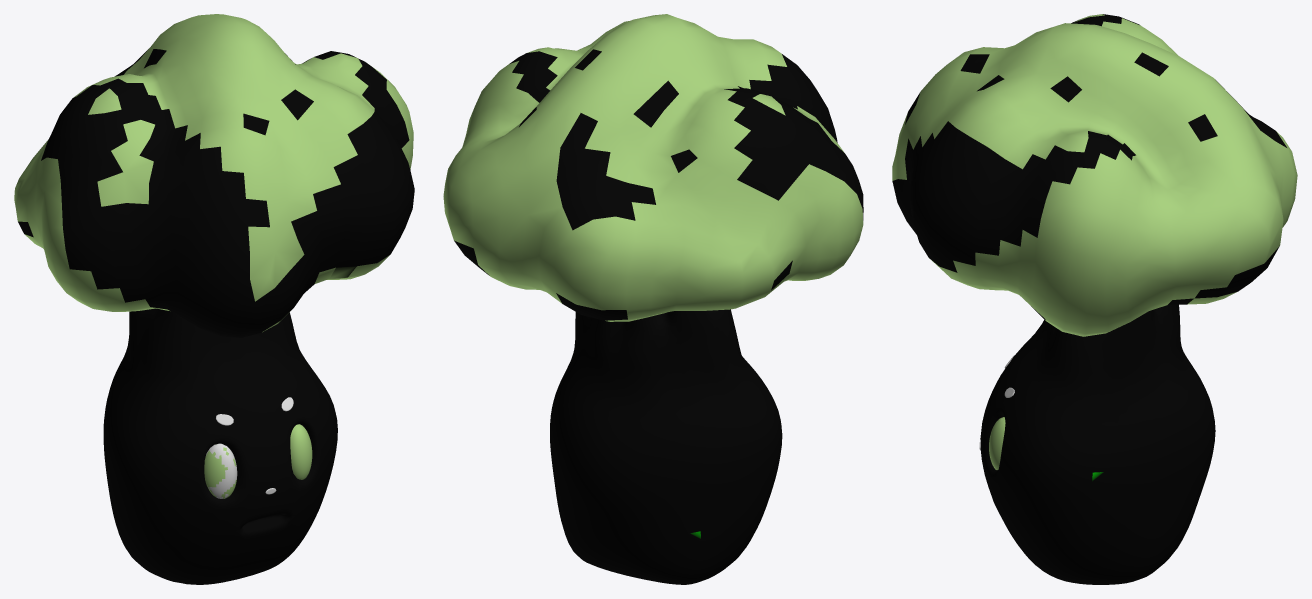
The model's file is Broc_uvmapped.FBX.
The picture shows the model from 3 angles, left to right: view 1: azimuth 30°, elevation 25°; view 2: azimuth 150°, elevation 25°; view 3: azimuth 270°, elevation 25°; orthographic projection.
Visible parts, largest first — view 1: body; view 2: body; view 3: body.
Part boxes in pixels (box(x1,y1,x2,y2)): body: box(14, 14, 414, 584); body: box(443, 14, 863, 584); body: box(892, 14, 1297, 584).
Bounding box in the file's own units: 1.36 × 1.91 × 1.3.
